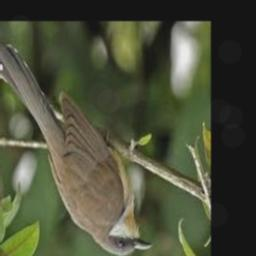Cuckoo: (0, 42, 153, 256)
